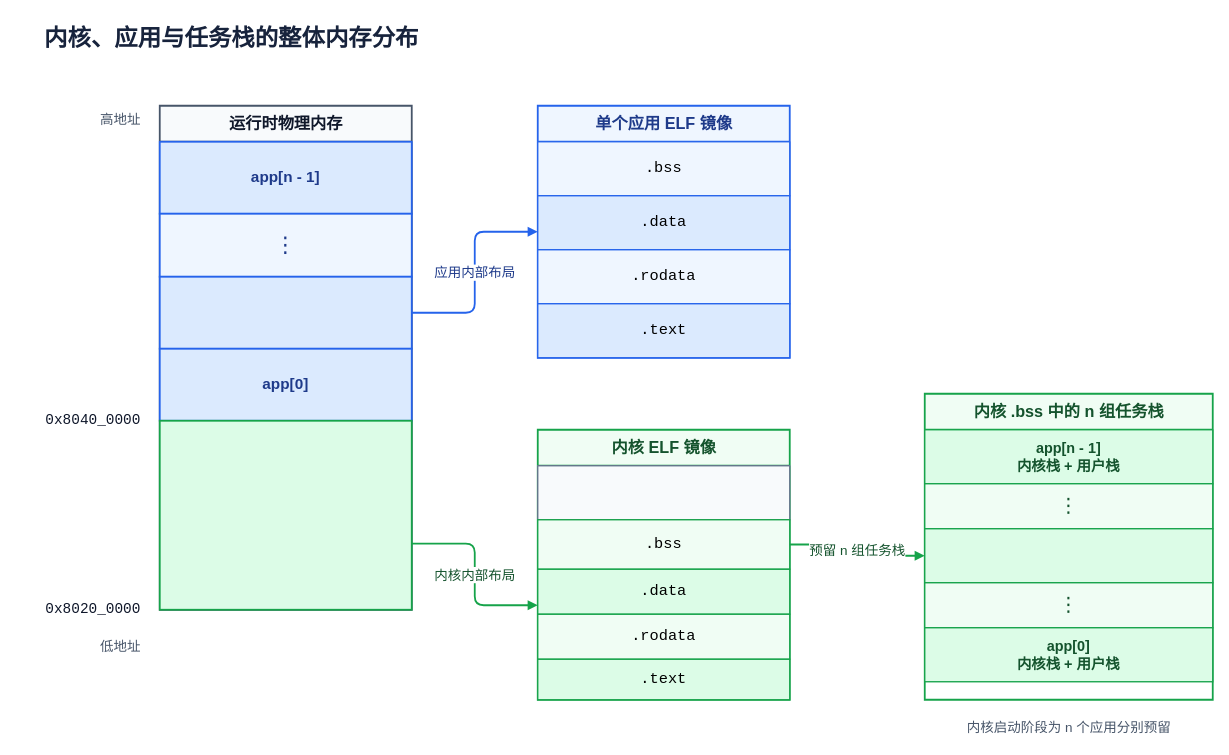
Some shapes in this 1229 by 755 pixel diagram are drawn without their labels. Each missing label, with the centre of its shape:
app[1]: (285,312)
app[i] 内核栈 + 用户栈: (1068,555)
其他空间: (663,492)
内核: (285,514)
